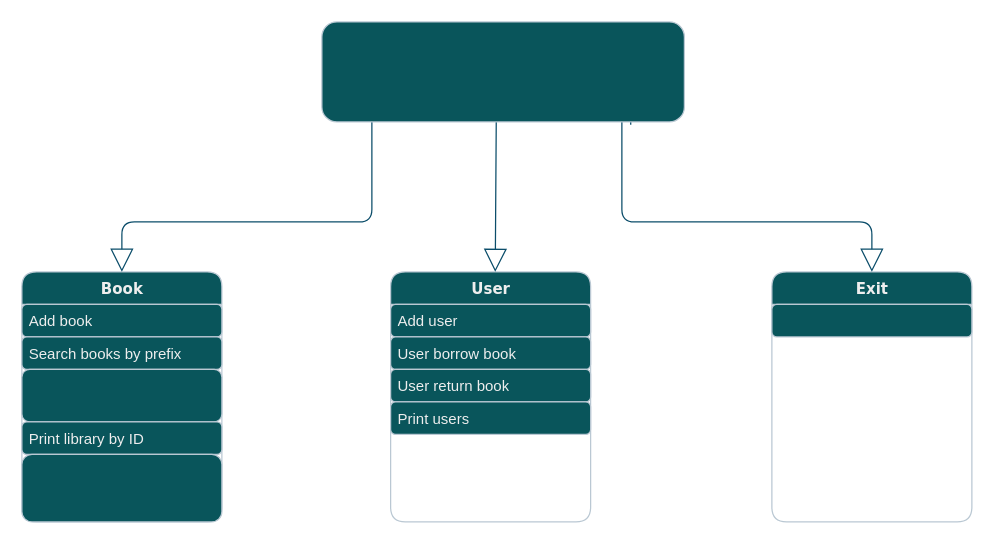
Some shapes in this 994 by 548 pixel diagram are drawn without their labels. The shapes that lost their labels are listed below. From the top down, each one's box as (x1, y1, x2, y2) in pixels, then its label:
(321, 21, 684, 122): Library system
(771, 303, 972, 337): print exit message
(21, 368, 222, 422): Print who borrowed book by name
(21, 453, 222, 522): Print library by name
